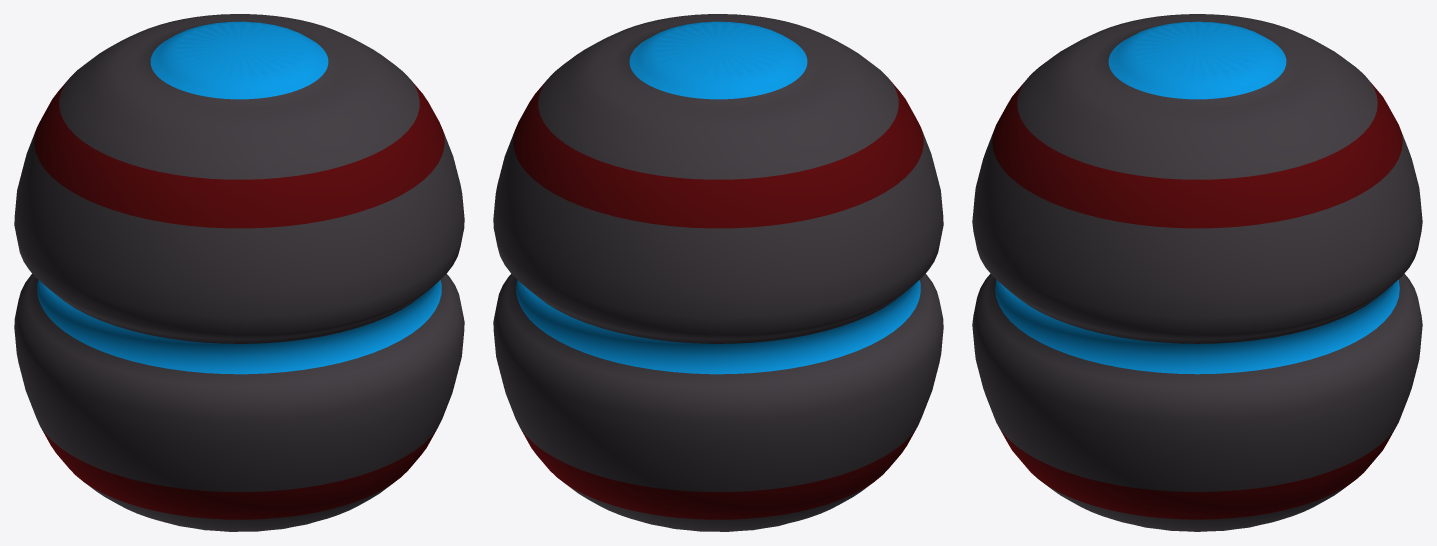
Rendered from Grenade.fbx.
The picture shows the model from 3 angles, left to right: view 1: azimuth 30°, elevation 25°; view 2: azimuth 150°, elevation 25°; view 3: azimuth 270°, elevation 25°; orthographic projection.
Visible parts, largest first — view 1: Cylinder; view 2: Cylinder; view 3: Cylinder.
Boxes of the visible parts, x1,y1,x2,y2 form: Cylinder: (14, 14, 464, 531); Cylinder: (493, 14, 943, 531); Cylinder: (972, 14, 1422, 531).
Bounding box in the file's own units: 237 × 254 × 237.
